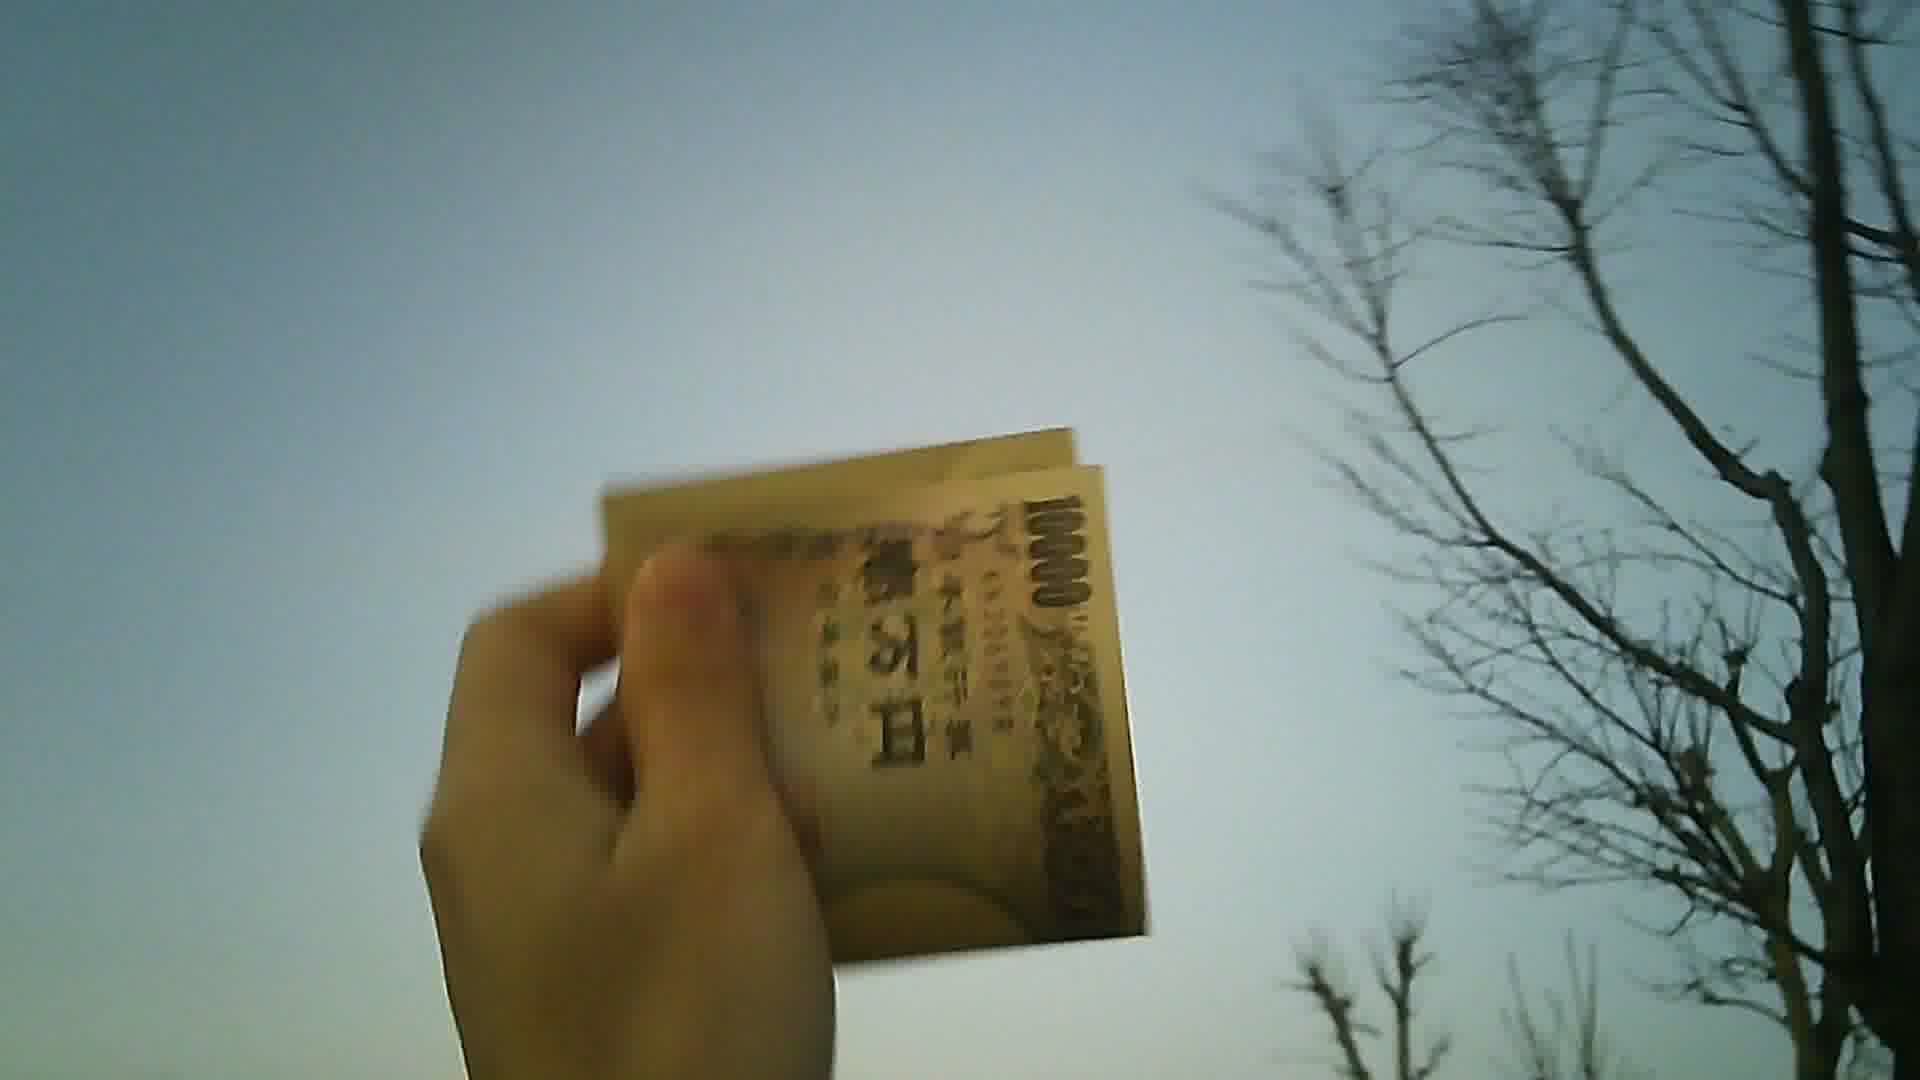10,000 Yen: (566, 419, 1176, 964)
